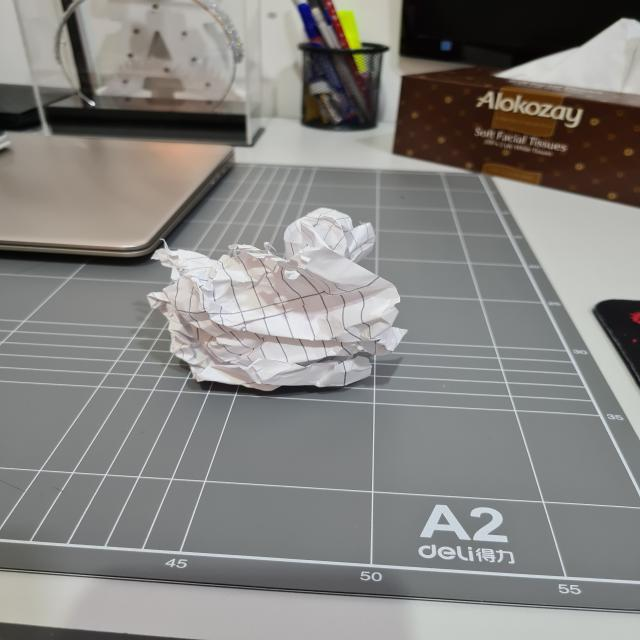Paper: (159, 203, 404, 385)
